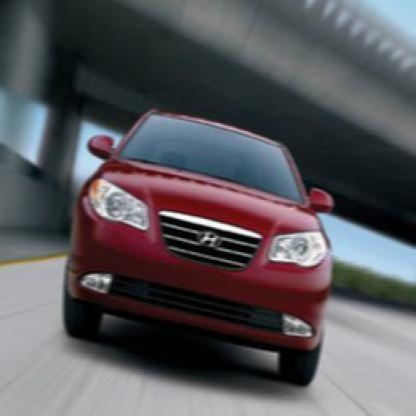Vehicle: (63, 106, 336, 386)
